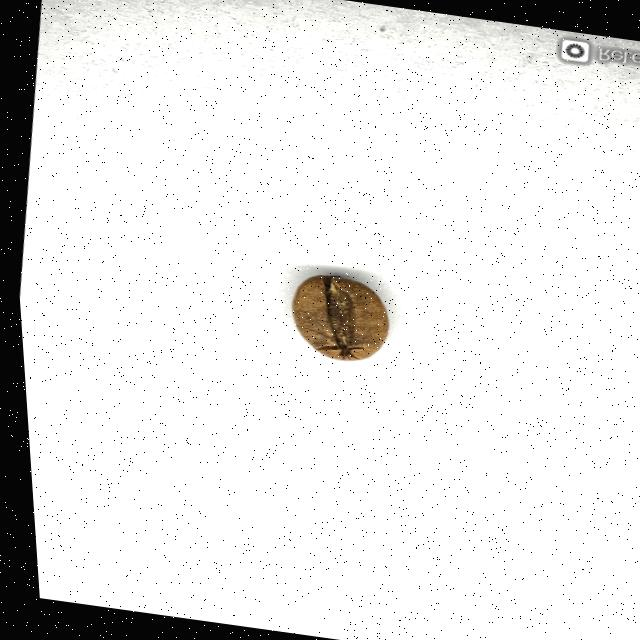Good bean: (282, 269, 389, 368)
